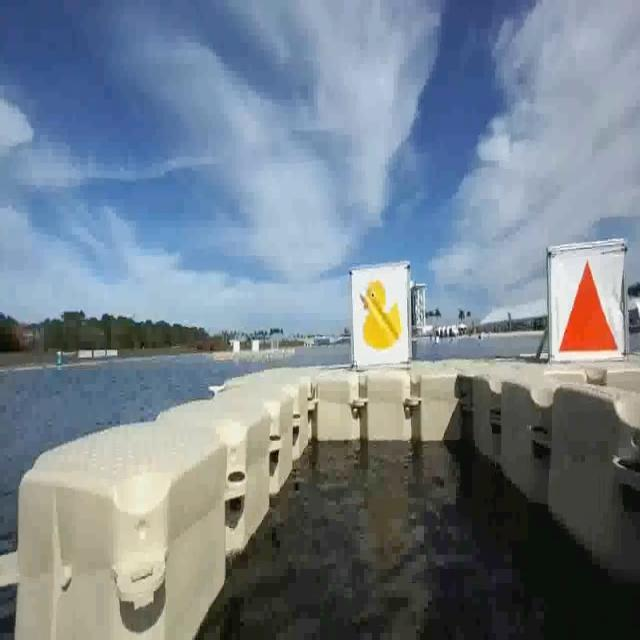red-dot: (551, 246, 622, 359)
yellow-duck: (351, 267, 411, 367)
